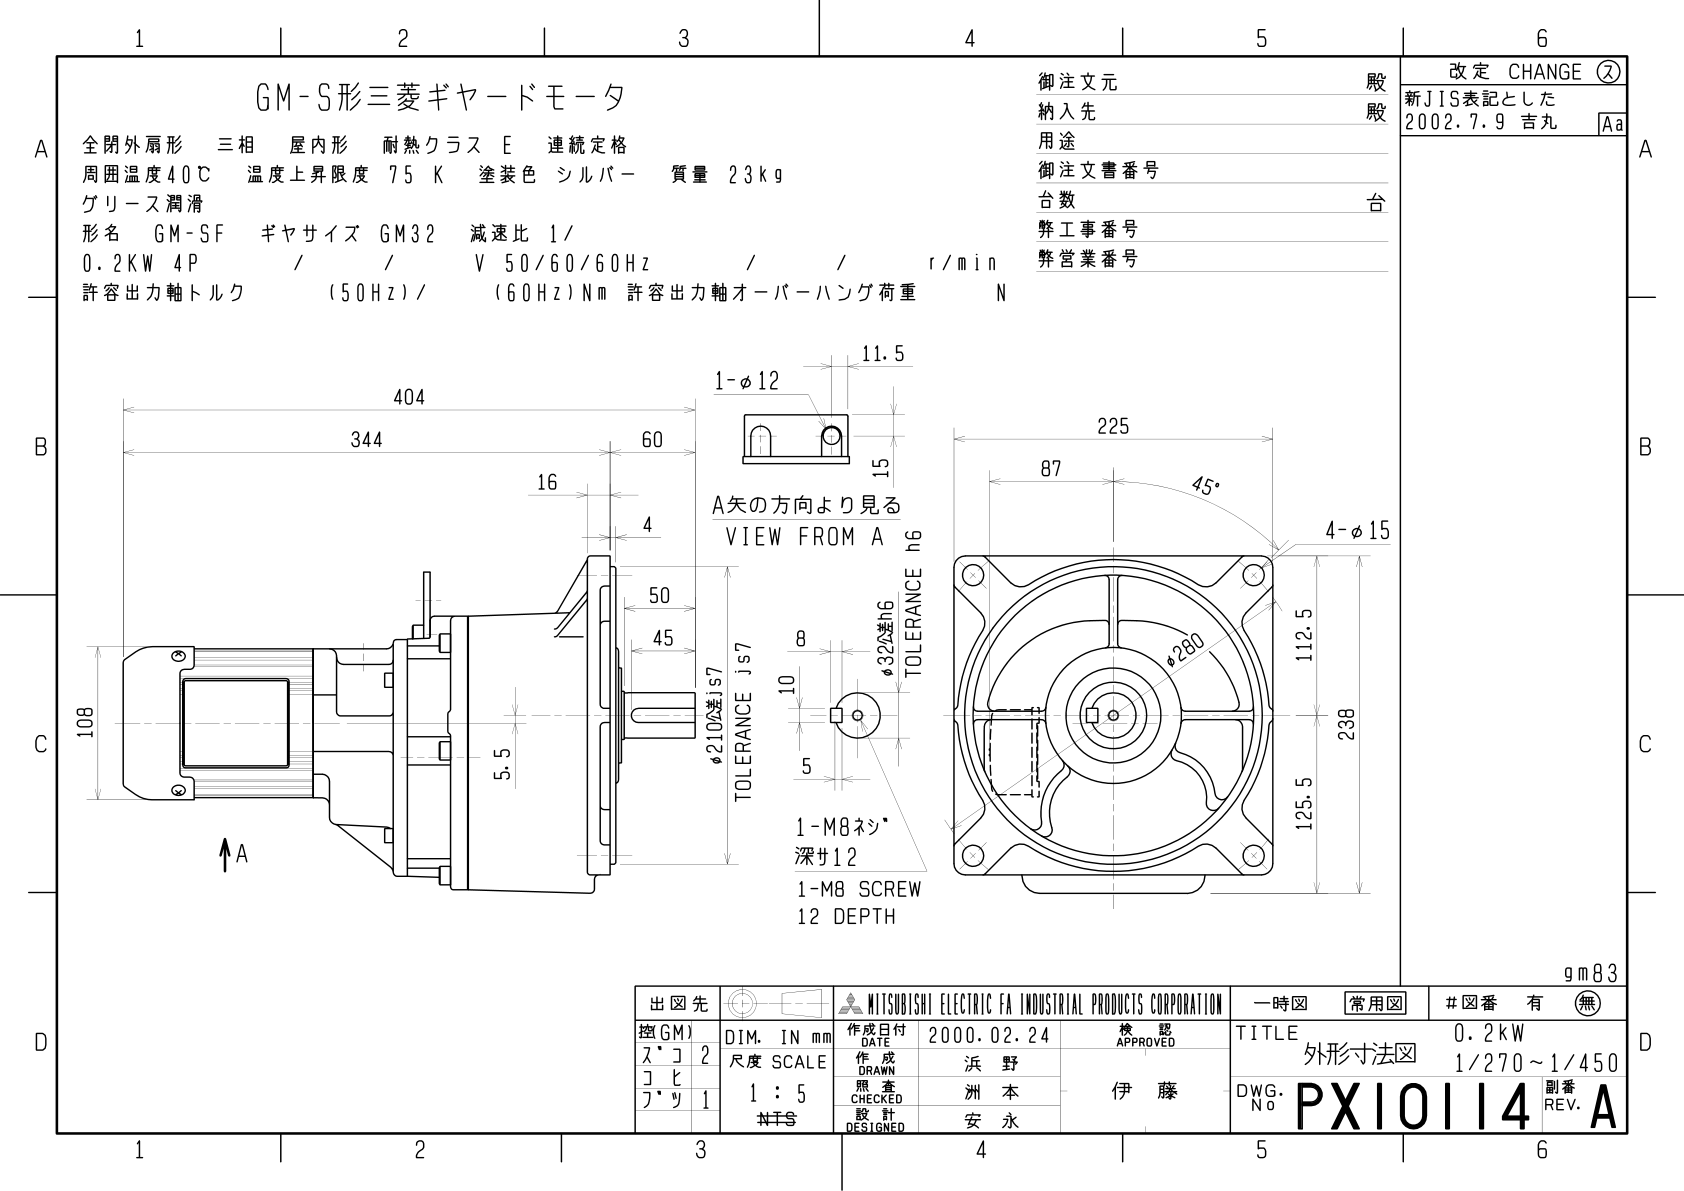GM_S_屋内＿三相_フランジ: (63, 327, 1397, 969)
